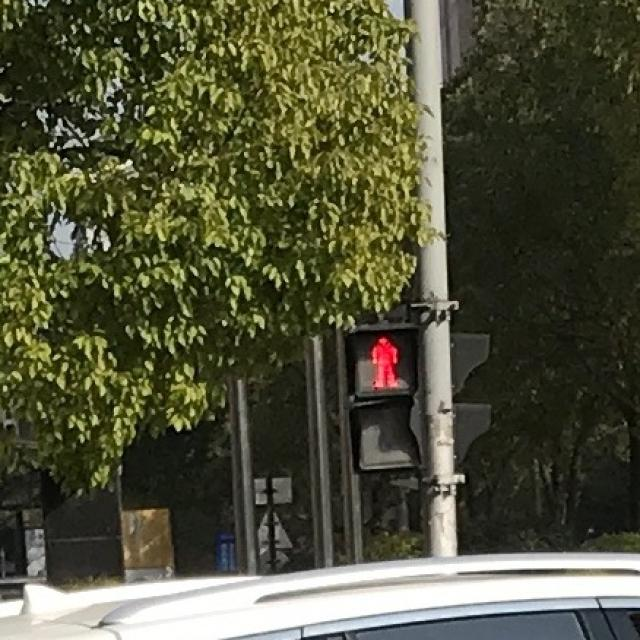red_light: (349, 326, 418, 392)
